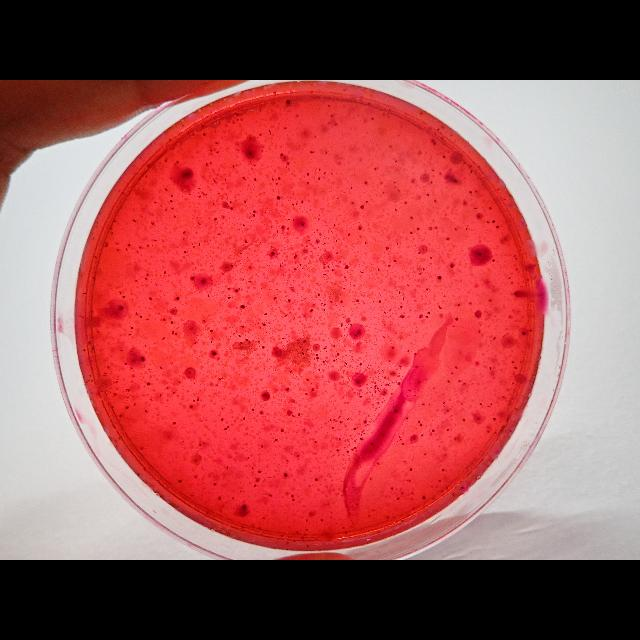colony: (177, 168, 195, 180), (240, 502, 250, 512), (116, 304, 125, 312), (246, 149, 254, 157), (476, 249, 482, 259), (453, 177, 459, 186), (217, 494, 223, 502), (230, 494, 236, 502), (282, 471, 288, 479), (313, 475, 319, 483), (410, 436, 418, 442), (210, 351, 218, 357), (285, 98, 291, 106), (260, 515, 266, 521), (267, 492, 273, 498), (140, 356, 146, 362), (200, 278, 206, 284), (264, 392, 268, 401), (437, 275, 443, 281), (468, 189, 474, 195), (300, 222, 306, 228), (344, 264, 350, 270), (276, 194, 280, 202), (491, 256, 495, 264), (488, 204, 492, 212), (422, 494, 426, 501), (256, 526, 262, 530), (251, 522, 255, 528), (252, 484, 258, 488), (257, 470, 263, 474), (212, 482, 218, 486), (177, 479, 183, 483), (173, 420, 177, 426), (124, 405, 130, 409), (147, 381, 151, 387), (159, 392, 163, 398), (128, 332, 132, 338), (118, 290, 122, 296), (82, 291, 88, 295), (396, 496, 400, 502), (408, 467, 414, 471), (400, 442, 406, 446), (438, 478, 442, 484), (432, 496, 436, 502), (477, 416, 481, 422), (487, 428, 491, 434), (493, 335, 497, 341), (522, 330, 526, 336), (455, 316, 459, 322), (419, 314, 423, 320), (355, 378, 359, 384), (163, 270, 167, 276), (132, 218, 136, 224), (280, 428, 284, 434), (214, 140, 218, 146), (212, 178, 216, 184), (255, 176, 258, 184), (495, 224, 499, 230), (417, 250, 421, 256), (421, 266, 425, 272), (491, 219, 495, 225), (426, 192, 430, 198), (270, 252, 276, 256), (358, 226, 362, 232), (162, 316, 165, 322), (165, 186, 168, 192), (291, 494, 295, 498), (291, 498, 295, 502), (190, 493, 194, 497), (198, 442, 202, 446), (223, 427, 227, 431), (140, 446, 144, 450), (126, 388, 130, 392), (126, 396, 130, 400), (124, 362, 128, 366), (129, 366, 133, 370), (88, 373, 92, 377), (82, 348, 86, 352), (130, 326, 134, 330), (148, 296, 152, 300), (139, 315, 143, 319), (190, 404, 194, 408), (194, 459, 198, 463), (260, 444, 264, 448), (274, 438, 278, 442), (301, 536, 305, 540), (306, 544, 310, 548), (441, 468, 445, 472), (408, 479, 412, 483), (394, 409, 398, 413), (492, 417, 496, 421), (462, 418, 466, 422), (447, 379, 451, 383), (458, 379, 462, 383), (488, 367, 492, 371), (427, 311, 431, 315), (438, 306, 442, 310), (378, 300, 382, 304), (304, 392, 308, 396), (286, 387, 290, 391), (240, 305, 244, 309), (264, 312, 268, 316), (241, 325, 245, 329), (309, 309, 313, 313), (273, 296, 277, 300), (227, 296, 231, 300), (190, 276, 194, 280), (176, 296, 180, 300), (144, 276, 148, 280), (127, 243, 131, 247), (151, 221, 155, 225), (175, 160, 179, 164), (251, 408, 255, 412), (203, 132, 207, 136), (201, 124, 205, 128), (230, 206, 234, 210), (429, 256, 433, 260), (418, 272, 422, 276), (170, 321, 173, 325), (162, 336, 166, 339), (175, 332, 178, 336), (159, 366, 163, 369), (172, 391, 175, 395), (197, 398, 200, 402), (321, 518, 324, 522), (391, 486, 394, 490), (376, 461, 379, 465), (371, 442, 374, 446), (461, 486, 464, 490), (405, 416, 409, 419), (446, 428, 449, 432), (480, 401, 482, 407), (454, 366, 458, 369), (511, 381, 514, 385), (357, 331, 361, 334), (315, 356, 319, 359), (322, 361, 326, 364), (207, 293, 210, 297), (183, 250, 187, 253), (174, 214, 176, 220), (138, 247, 142, 250), (114, 242, 120, 244), (170, 195, 174, 198), (153, 200, 157, 203), (242, 416, 245, 420), (298, 411, 300, 417), (278, 175, 280, 181), (250, 466, 253, 469), (446, 486, 449, 489), (308, 484, 310, 488), (119, 414, 123, 416), (106, 366, 110, 368), (91, 379, 93, 383), (104, 372, 108, 374), (121, 296, 125, 298), (135, 312, 137, 316), (171, 333, 175, 335), (150, 398, 152, 402), (144, 410, 148, 412), (222, 418, 224, 422), (247, 456, 249, 460), (256, 478, 258, 482), (344, 532, 348, 534), (342, 526, 344, 530), (424, 452, 426, 456), (398, 436, 402, 438), (399, 438, 403, 440), (418, 420, 420, 424), (420, 423, 422, 427), (514, 408, 518, 410), (442, 402, 446, 404), (421, 403, 425, 405), (462, 383, 466, 385), (452, 325, 456, 327), (425, 316, 429, 318), (401, 298, 405, 300), (442, 295, 446, 297), (426, 288, 428, 292), (399, 290, 401, 294), (384, 311, 386, 315), (354, 334, 358, 336), (336, 357, 338, 361), (360, 362, 362, 366), (318, 368, 320, 372), (306, 378, 308, 382), (312, 388, 314, 392), (290, 370, 292, 374), (238, 333, 240, 337), (246, 338, 248, 342), (284, 314, 286, 318), (262, 324, 266, 326), (282, 337, 284, 341), (302, 351, 304, 355), (324, 308, 326, 312), (330, 300, 332, 304), (288, 299, 290, 303), (238, 286, 240, 290), (226, 288, 230, 290), (248, 280, 252, 282), (146, 273, 148, 277), (198, 242, 200, 246), (170, 199, 172, 203), (171, 207, 173, 211), (206, 162, 208, 166), (230, 200, 232, 204), (227, 426, 230, 428), (512, 361, 514, 364), (514, 366, 516, 369), (406, 284, 409, 286), (341, 325, 344, 327), (336, 354, 339, 356), (165, 208, 168, 210), (172, 330, 174, 332), (193, 400, 195, 402), (432, 430, 434, 432), (421, 434, 423, 436), (508, 403, 510, 405), (400, 306, 402, 308), (438, 306, 440, 308), (350, 324, 352, 326), (333, 345, 335, 347), (262, 346, 264, 348), (258, 340, 260, 342), (240, 342, 242, 344), (304, 340, 306, 342), (324, 348, 326, 350), (316, 354, 318, 356), (324, 304, 326, 306), (318, 294, 320, 296), (236, 290, 238, 292), (242, 279, 244, 281), (193, 246, 195, 248), (346, 362, 346, 364)
